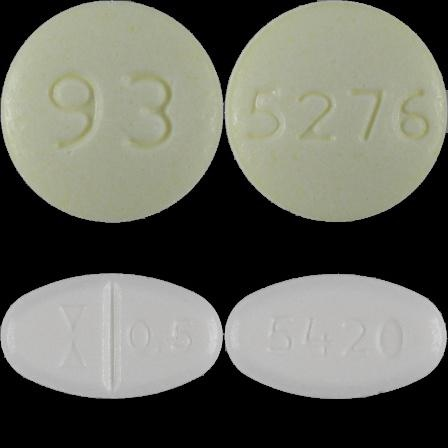69189-5276: (0, 0, 224, 224)
